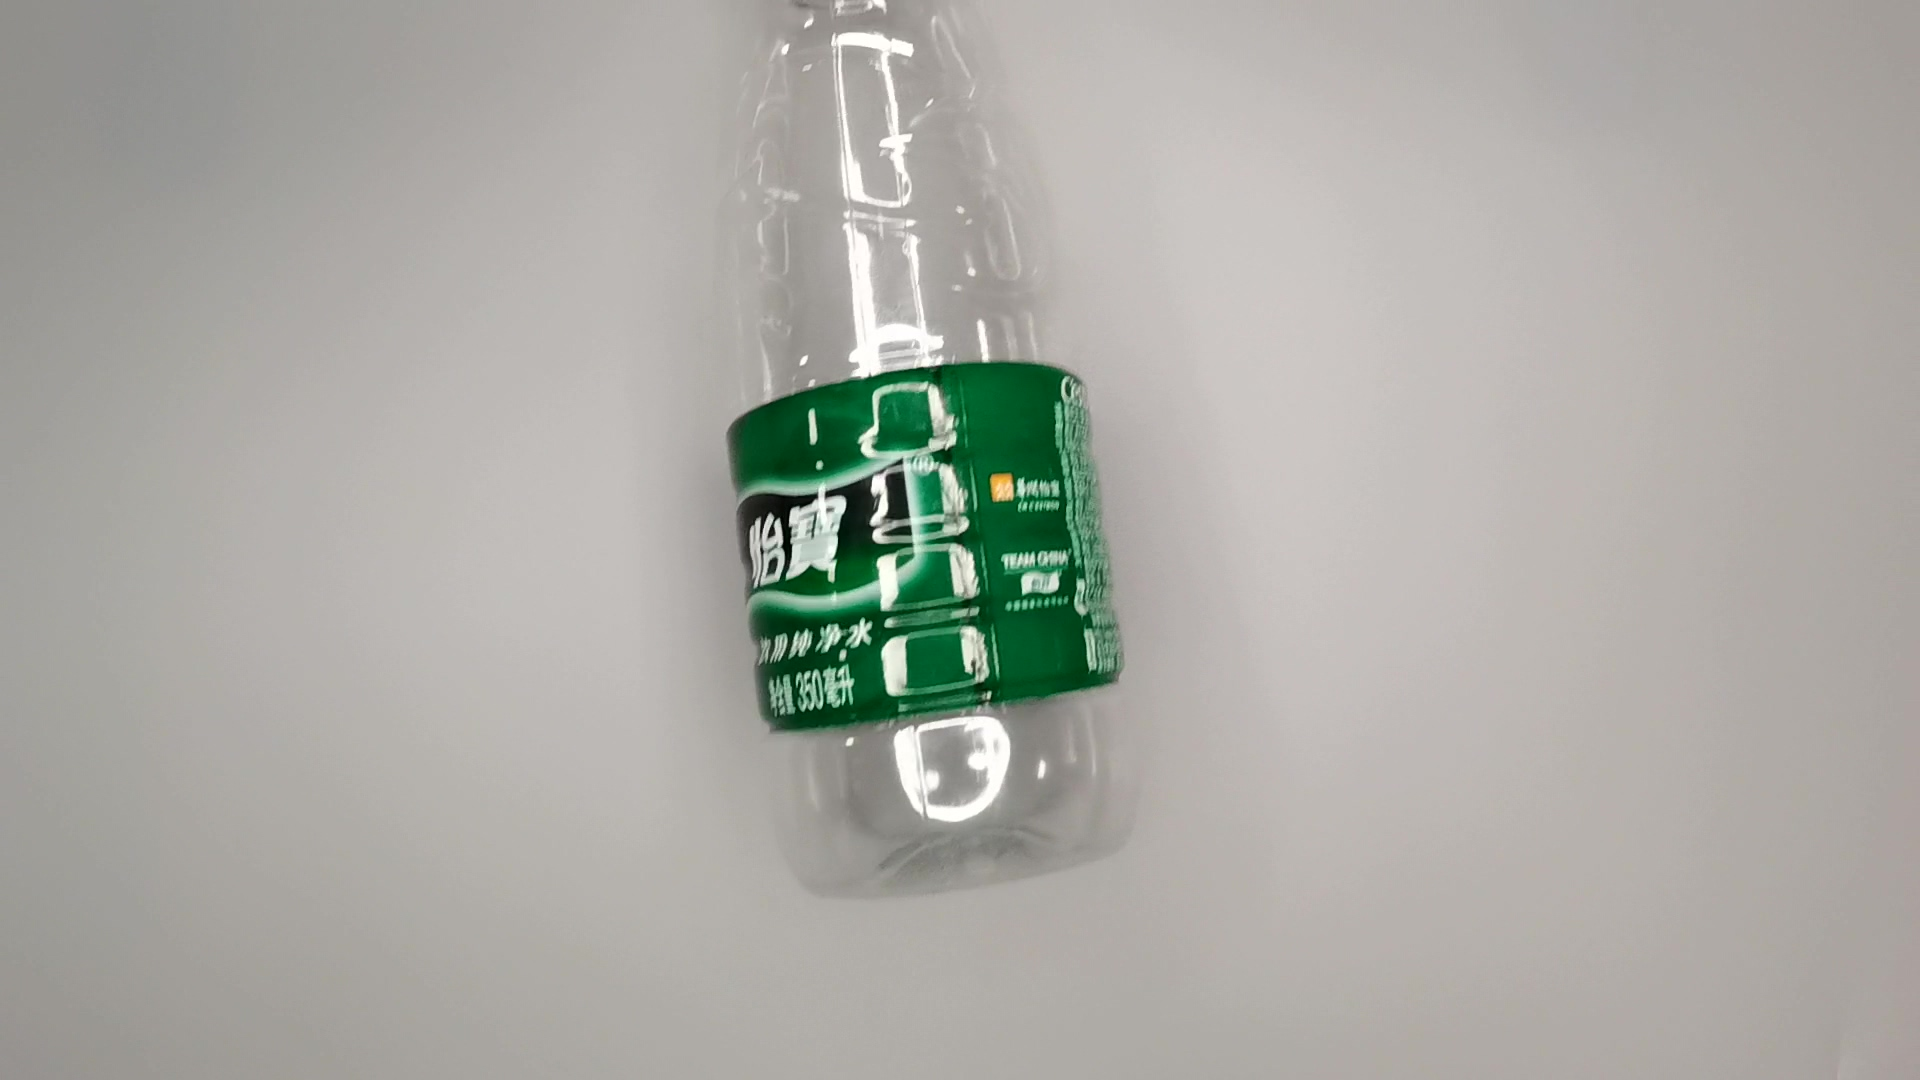bottle: (712, 1, 1154, 916)
